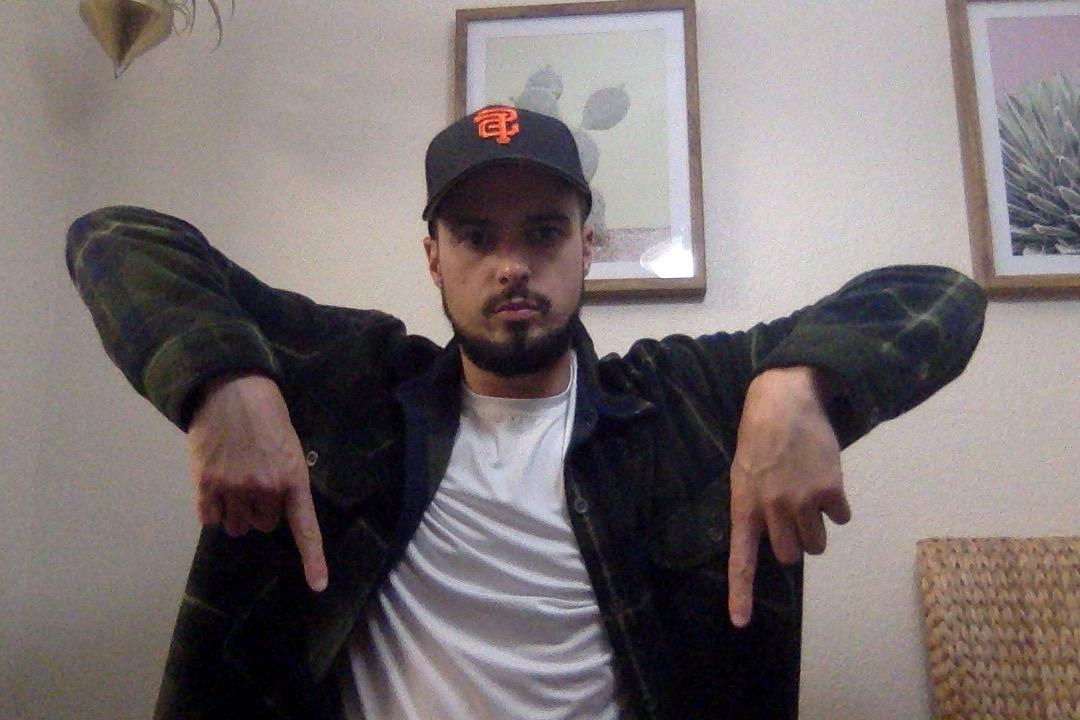Point-Down: (718, 375, 857, 655), (191, 378, 342, 596)
